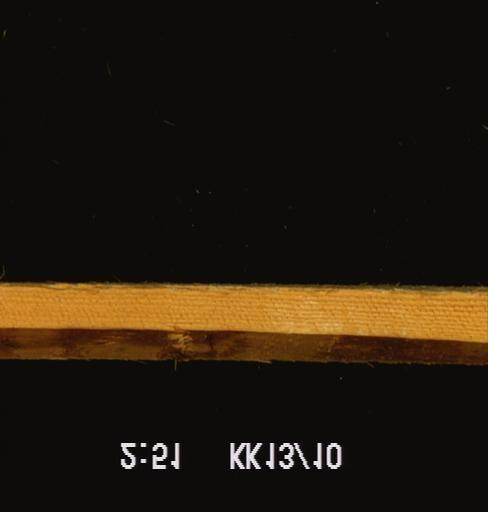wave: (0, 326, 486, 368)
